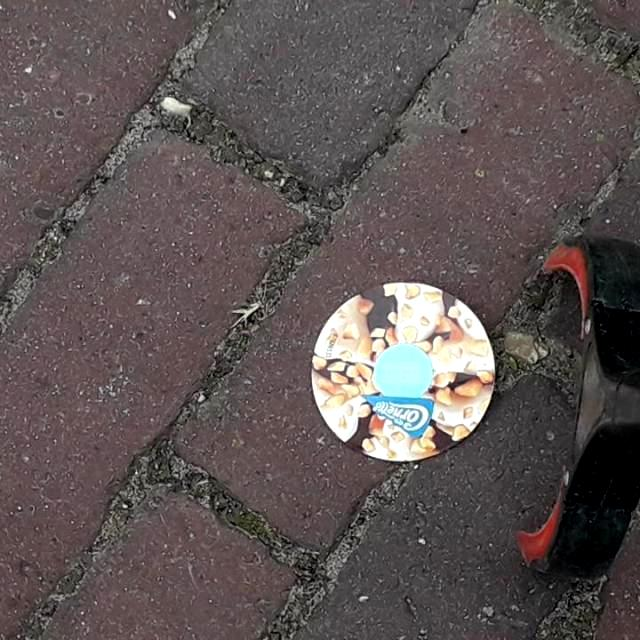Paper: (307, 278, 497, 466)
